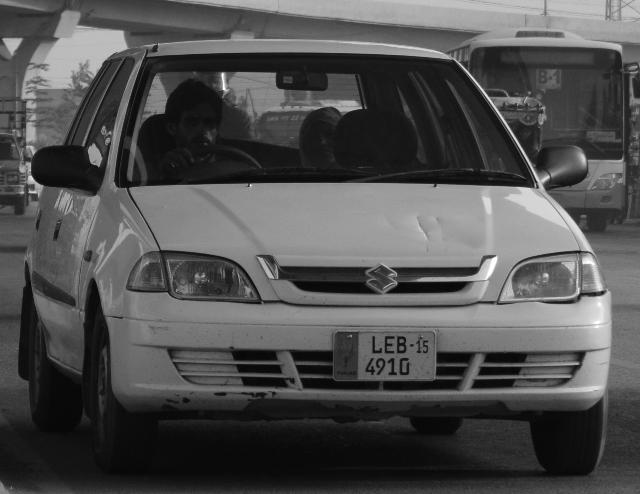Number: (362, 335, 426, 378)
